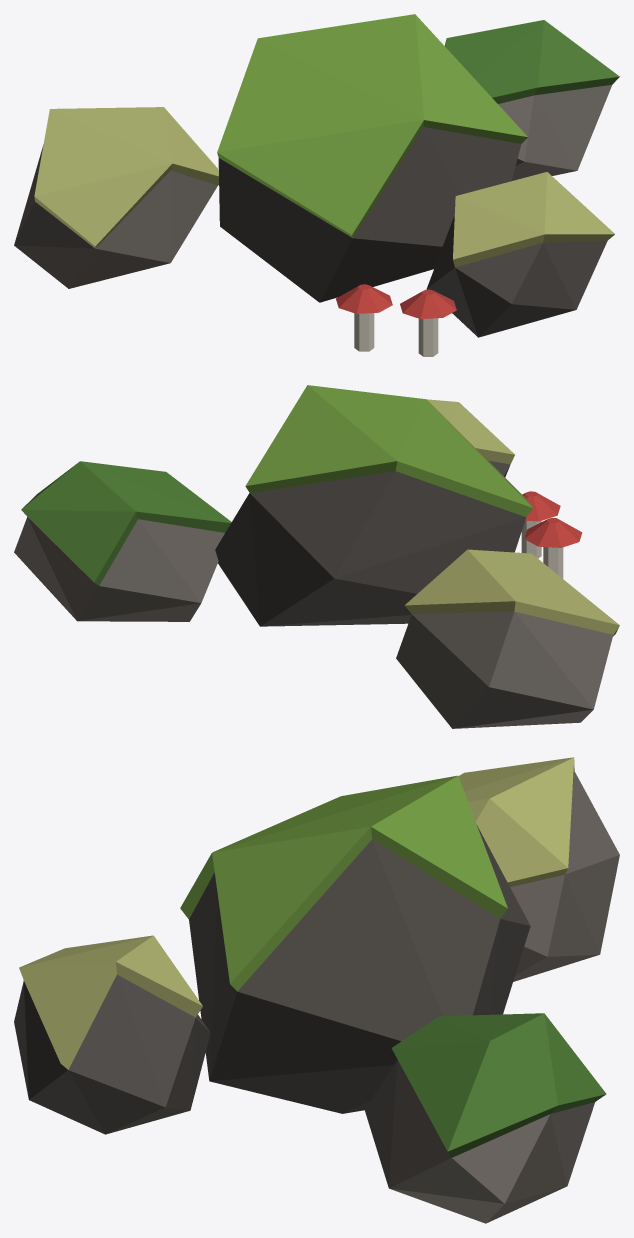
Rendered from rocher_foret_3.glb.
3 views of the same model, one above another, from view 1: azimuth 30°, elevation 25°; view 2: azimuth 150°, elevation 25°; view 3: azimuth 270°, elevation 25° (orthographic). The views are drawn at different scales.
Visible parts, largest first — view 1: mousse_mousse_claire.004, roche_pierre_sombre.010, mousse_lichen.001, roche_pierre.012, mousse_mousse.006, champignons_ecorce_claire.002, chapeau_-0.005, chapeau_-0.004; view 2: roche_pierre.012, roche_pierre_sombre.010, mousse_mousse_claire.004, mousse_mousse.006, mousse_lichen.001, chapeau_-0.004, champignons_ecorce_claire.002, chapeau_-0.005; view 3: roche_pierre_sombre.010, roche_pierre.012, mousse_mousse_claire.004, mousse_lichen.001, mousse_mousse.006.
Boxes of the visible parts, box(x1,y1,x2,y2) form: mousse_mousse_claire.004: box(217, 14, 527, 237); roche_pierre_sombre.010: box(218, 127, 607, 337); mousse_lichen.001: box(34, 107, 614, 267); roche_pierre.012: box(14, 85, 611, 288); mousse_mousse.006: box(445, 20, 619, 103); champignons_ecorce_claire.002: box(354, 313, 438, 356); chapeau_-0.005: box(400, 289, 456, 318); chapeau_-0.004: box(336, 284, 392, 313); roche_pierre.012: box(14, 517, 613, 728); roche_pierre_sombre.010: box(215, 460, 526, 626); mousse_mousse_claire.004: box(245, 385, 532, 516); mousse_mousse.006: box(21, 461, 231, 585); mousse_lichen.001: box(404, 399, 619, 636); chapeau_-0.004: box(524, 518, 582, 547); champignons_ecorce_claire.002: box(521, 520, 563, 578); chapeau_-0.005: box(522, 491, 560, 521); roche_pierre_sombre.010: box(14, 825, 530, 1134); roche_pierre.012: box(364, 771, 619, 1223); mousse_mousse_claire.004: box(180, 775, 507, 991); mousse_lichen.001: box(19, 757, 574, 1069); mousse_mousse.006: box(391, 1013, 606, 1157).
Bounding box in the file's own units: 1.02 × 0.3836 × 0.729.
